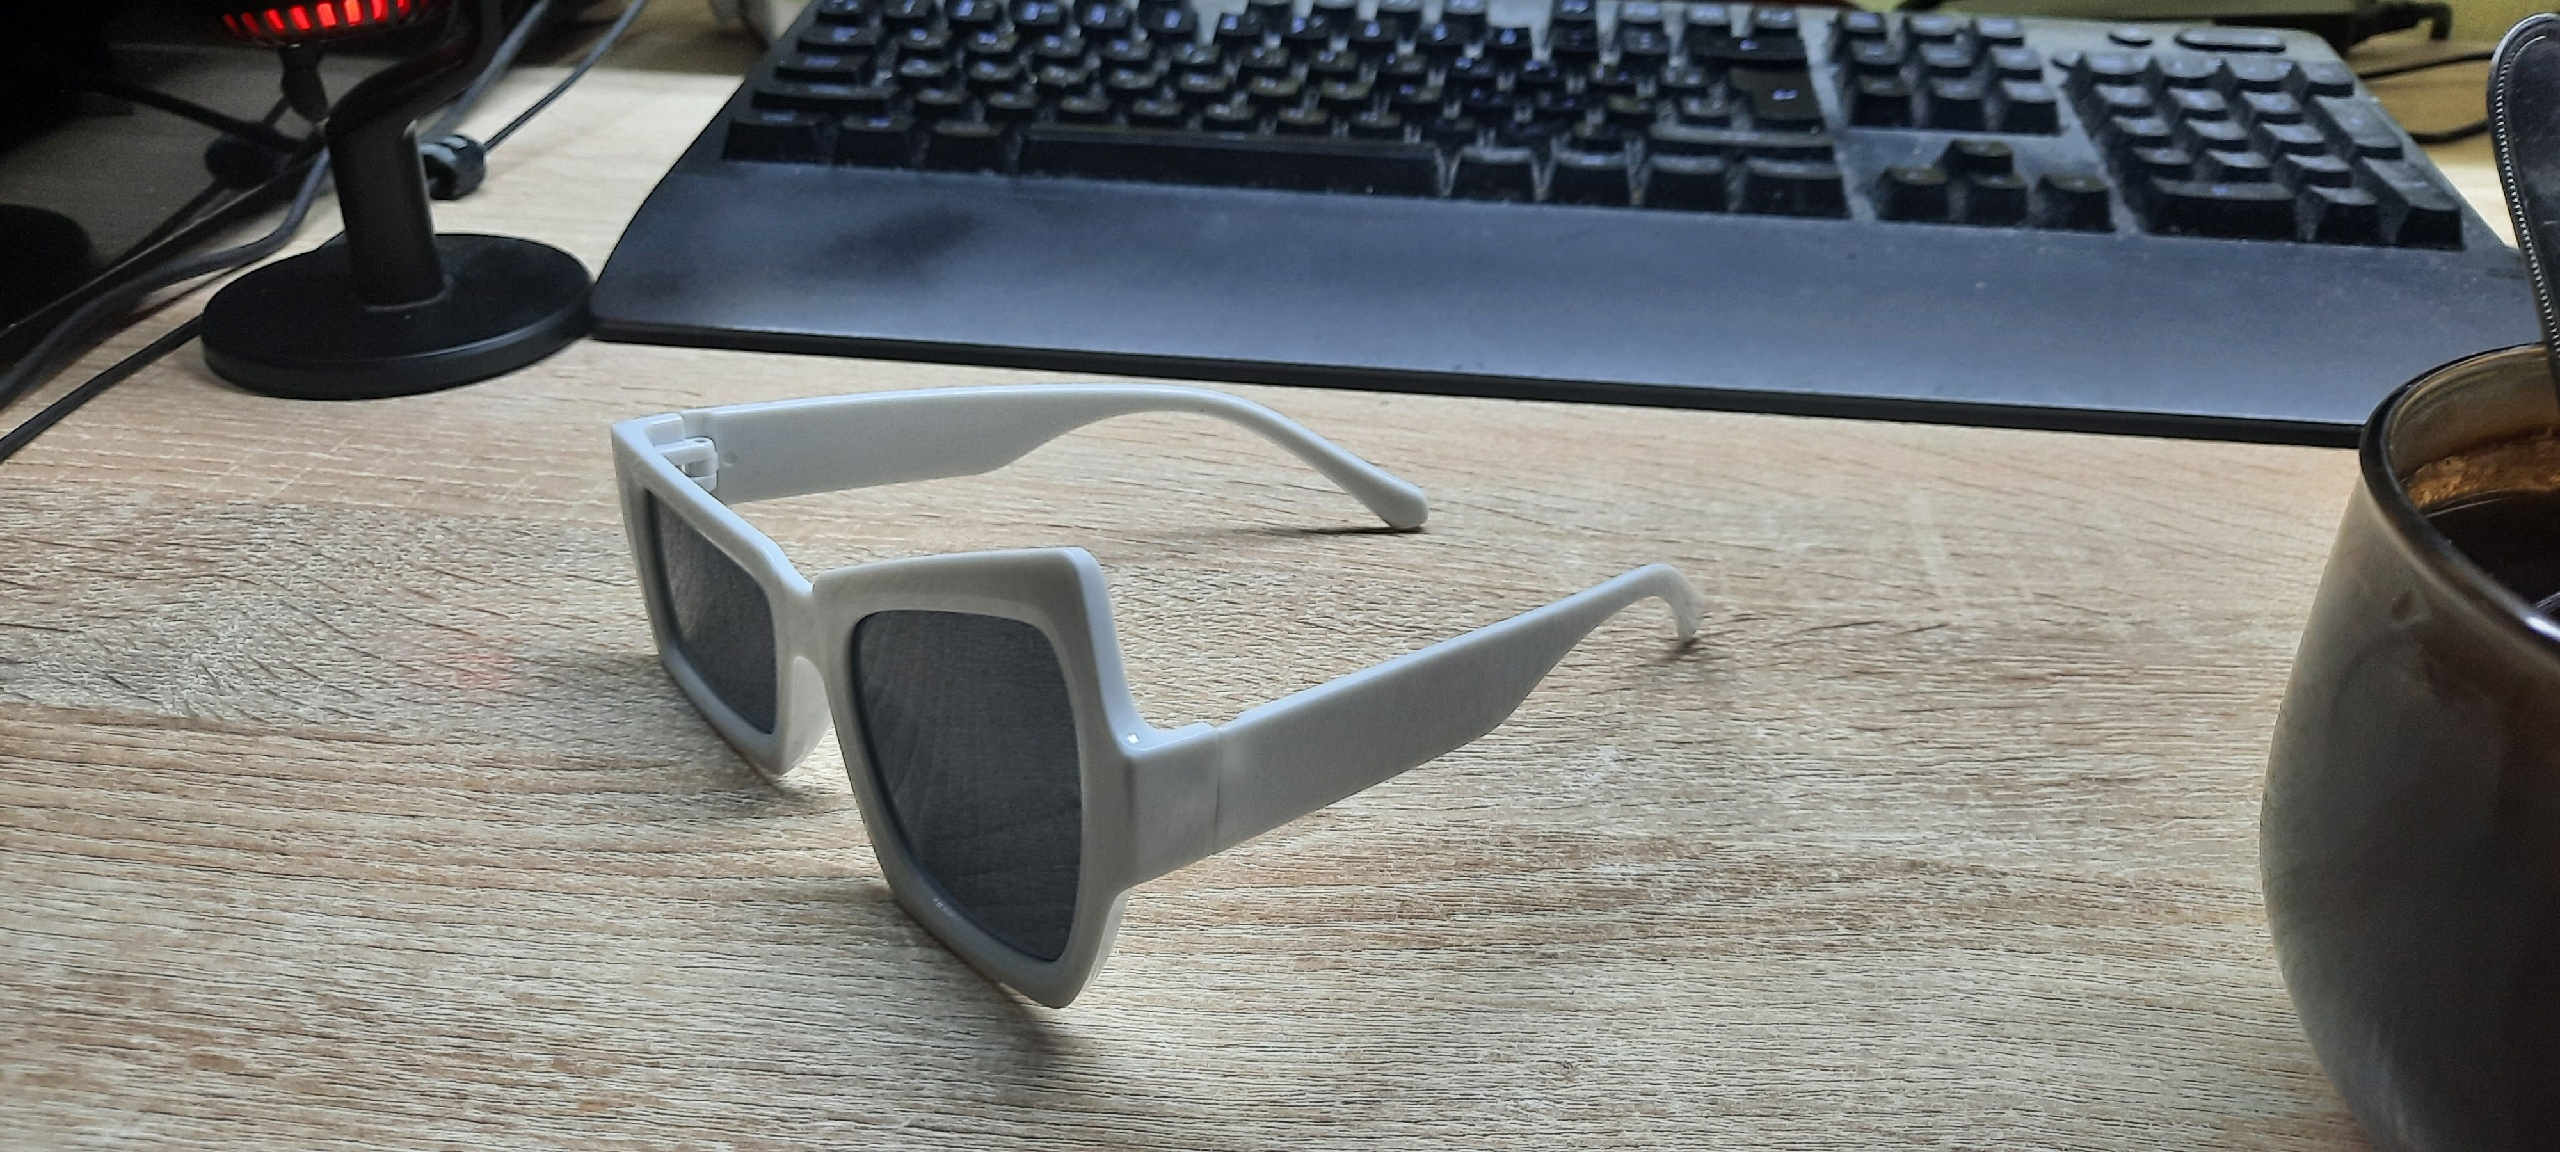glasses: (616, 387, 1700, 1007)
